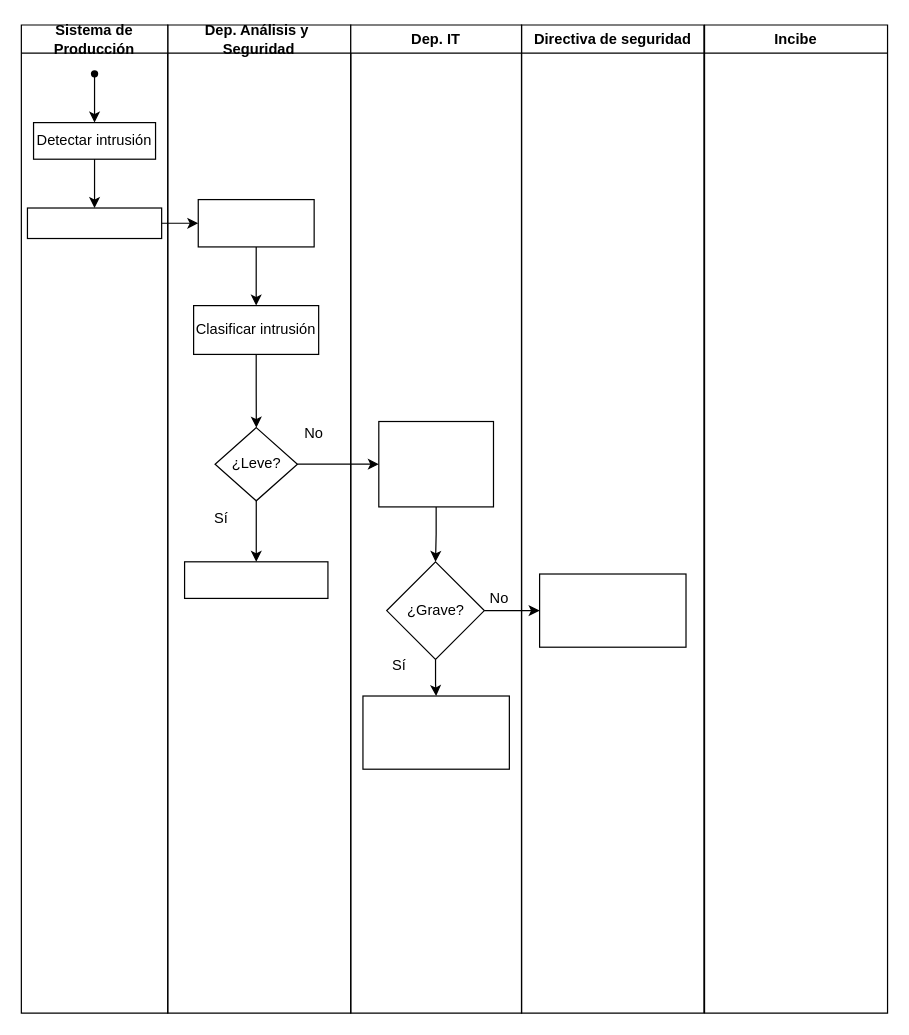
Image size: 909x1035. Some labels were removed from this diagram. The shapes that lost their labels are listed below. From the top down, each one's centre as x and y in pixels, then its label:
At [94,223]: "Clasificar los principales atributos".
At [255,222]: "Realizar un análisis de la intrusión".
At [435,463]: "Realiza el inventariado del equipo y genera lista de activos expuestos".
At [255,579]: "Actualizar BBDD".
